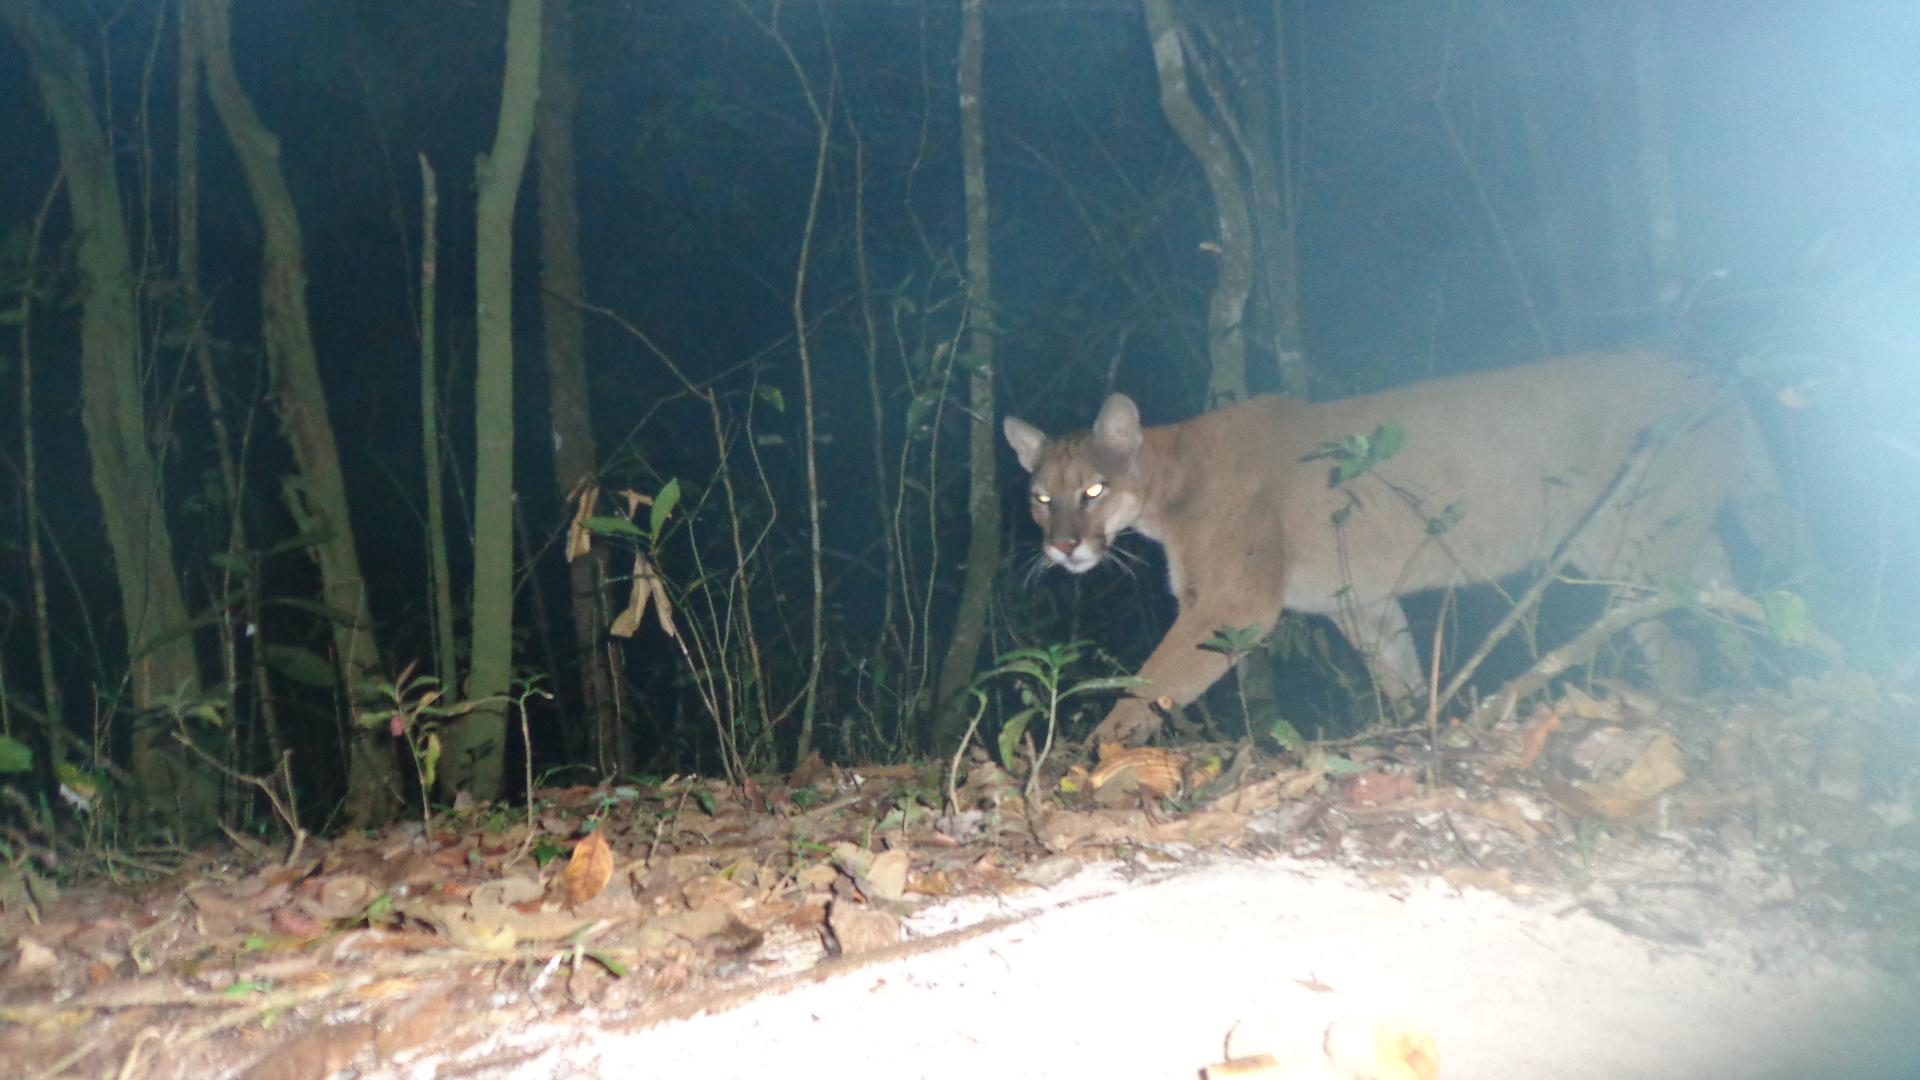OncaParda: (976, 339, 1817, 742)
